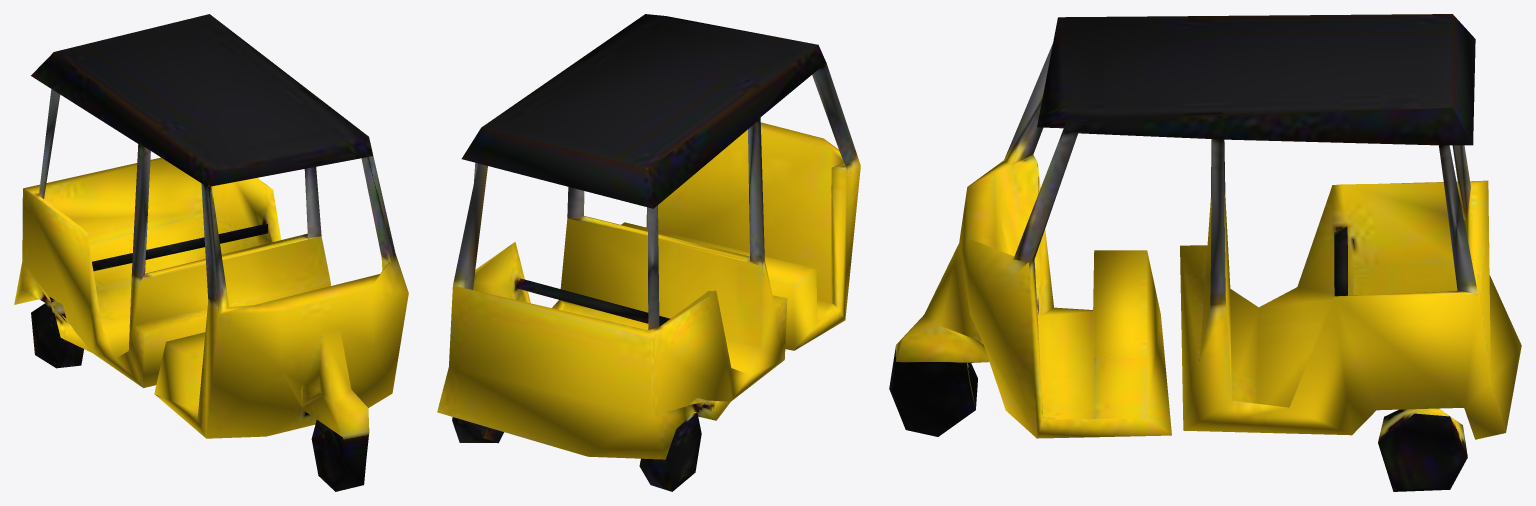
File: keke-far.glb
3 views of the same model, side by side, from view 1: azimuth 30°, elevation 25°; view 2: azimuth 150°, elevation 25°; view 3: azimuth 270°, elevation 25° (orthographic). The views are drawn at different scales.
Parts seen in each view (by area): view 1: keke-far; view 2: keke-far; view 3: keke-far.
Boxes of the visible parts, x1,y1,x2,y2 form: keke-far: (14, 14, 408, 491); keke-far: (437, 14, 860, 491); keke-far: (889, 14, 1521, 491).
Bounding box in the file's own units: 1.51 × 2.04 × 3.13.
Materials: 1 (1 with a texture image).
